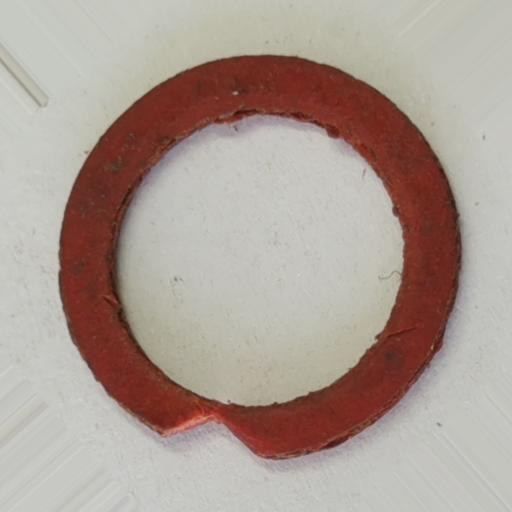defect: (161, 411, 266, 460)
